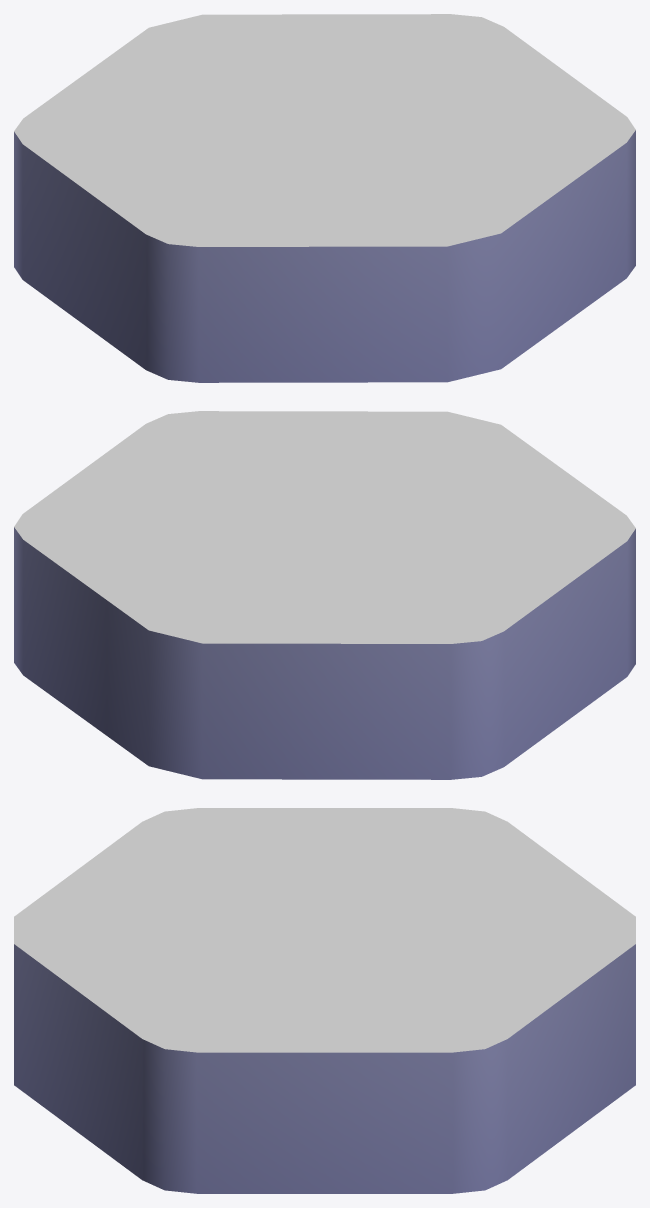
File: shape-hexagon_0.glb
3 views of the same model, one above another, from view 1: azimuth 30°, elevation 25°; view 2: azimuth 150°, elevation 25°; view 3: azimuth 270°, elevation 25° (orthographic). The views are drawn at different scales.
Visible parts, largest first — view 1: shape-hexagon; view 2: shape-hexagon; view 3: shape-hexagon.
Boxes of the visible parts, left/top/right/bottom form: shape-hexagon: left=14, top=14, right=635, bottom=382; shape-hexagon: left=14, top=411, right=635, bottom=779; shape-hexagon: left=14, top=808, right=635, bottom=1193.
Bounding box in the file's own units: 0.2318 × 0.0625 × 0.2494.
